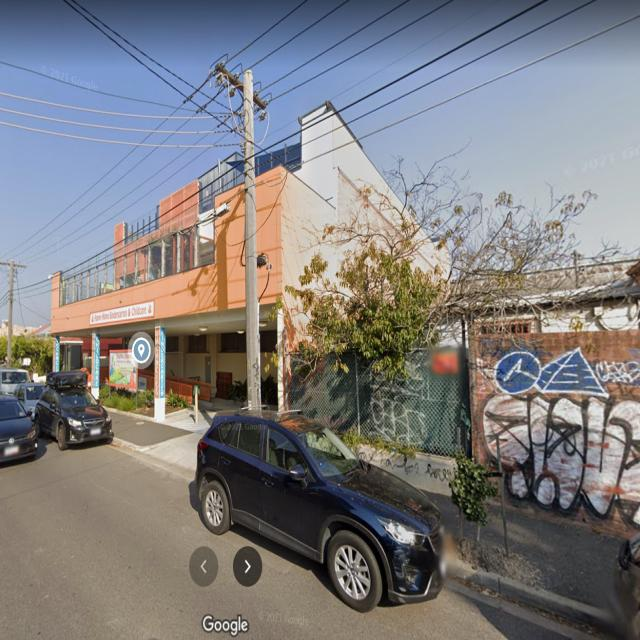crossarm: (215, 60, 269, 116), (0, 258, 26, 271)
timber-pole: (242, 68, 262, 412), (7, 259, 15, 363)
